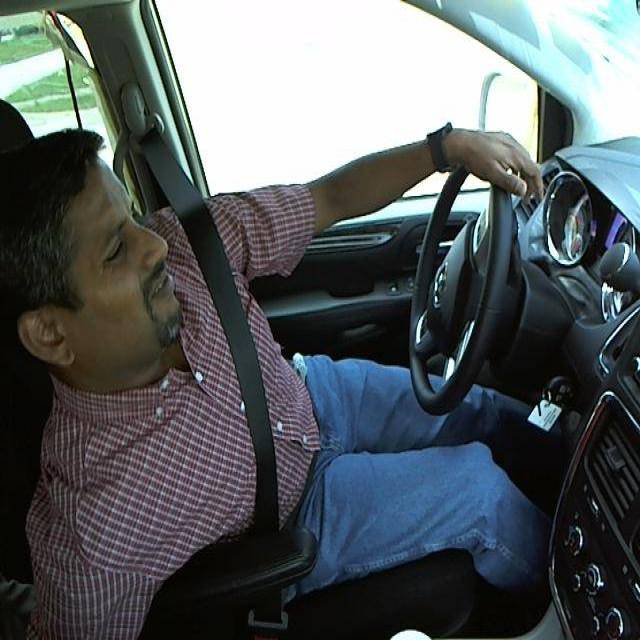seatbelt: (180, 226, 301, 554)
